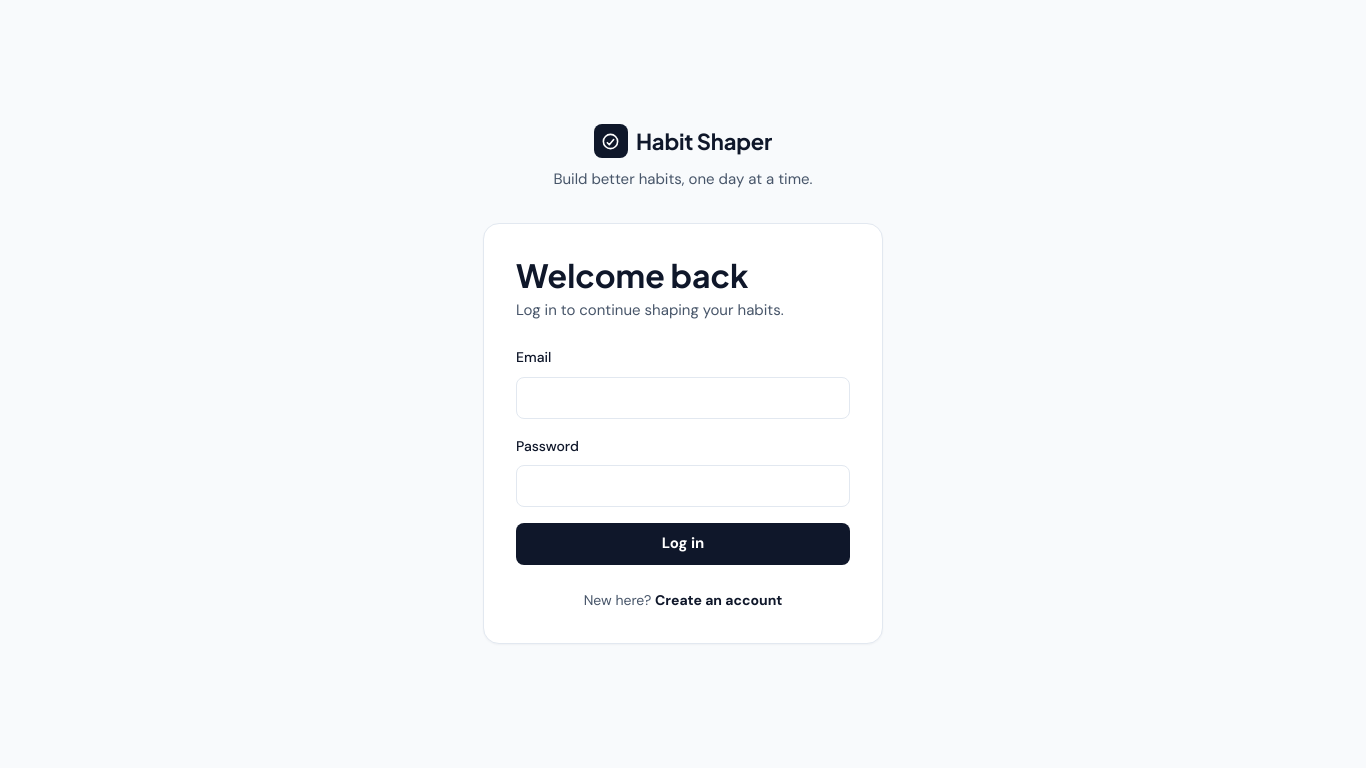
Test: Phase 7 auth flow › 4. valid login succeeds and reaches the protected shell
Type "erin@example.com" into the field labelled "Email" at (683, 398), box [516,377,850,419]
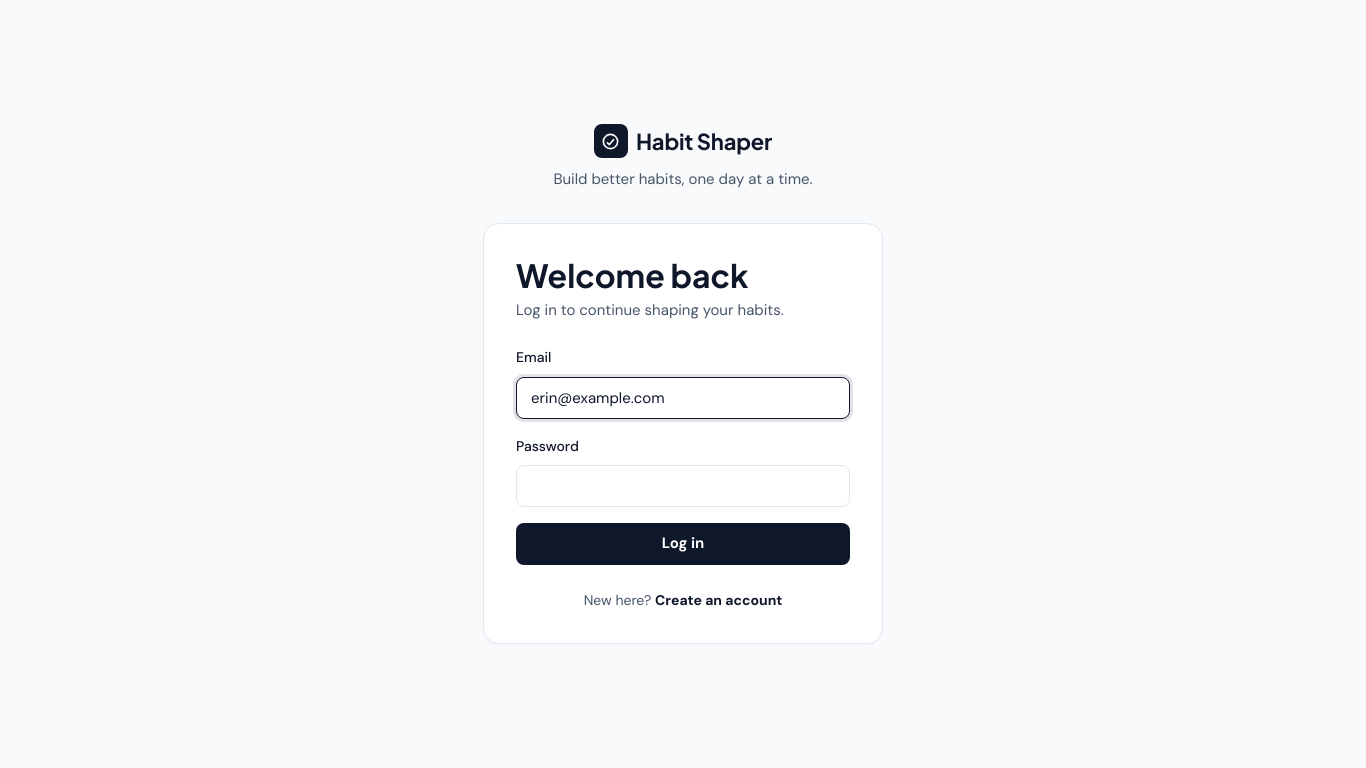
Type "password-456" into the password field labelled "Password" at (683, 486), box [516,465,850,507]
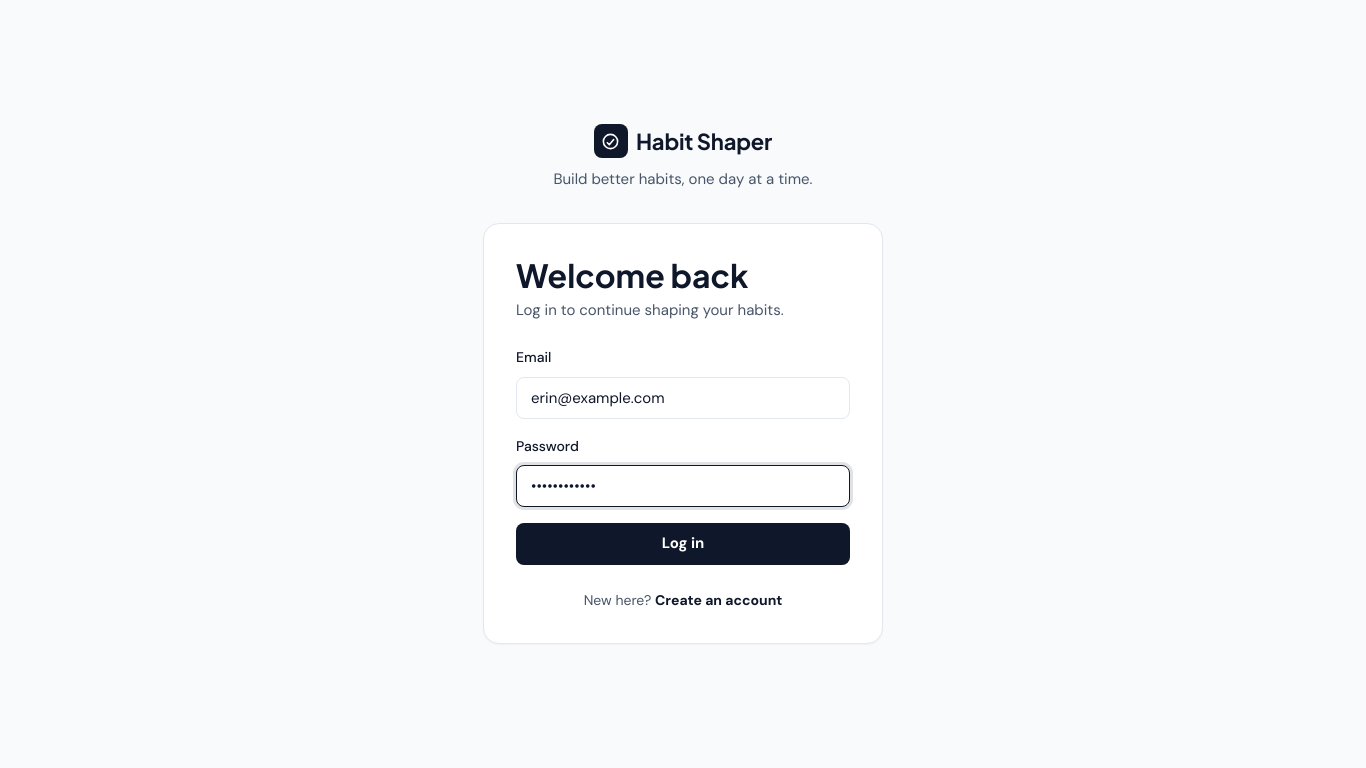
Click the button "Log in" at (683, 544), box [516,523,850,565]
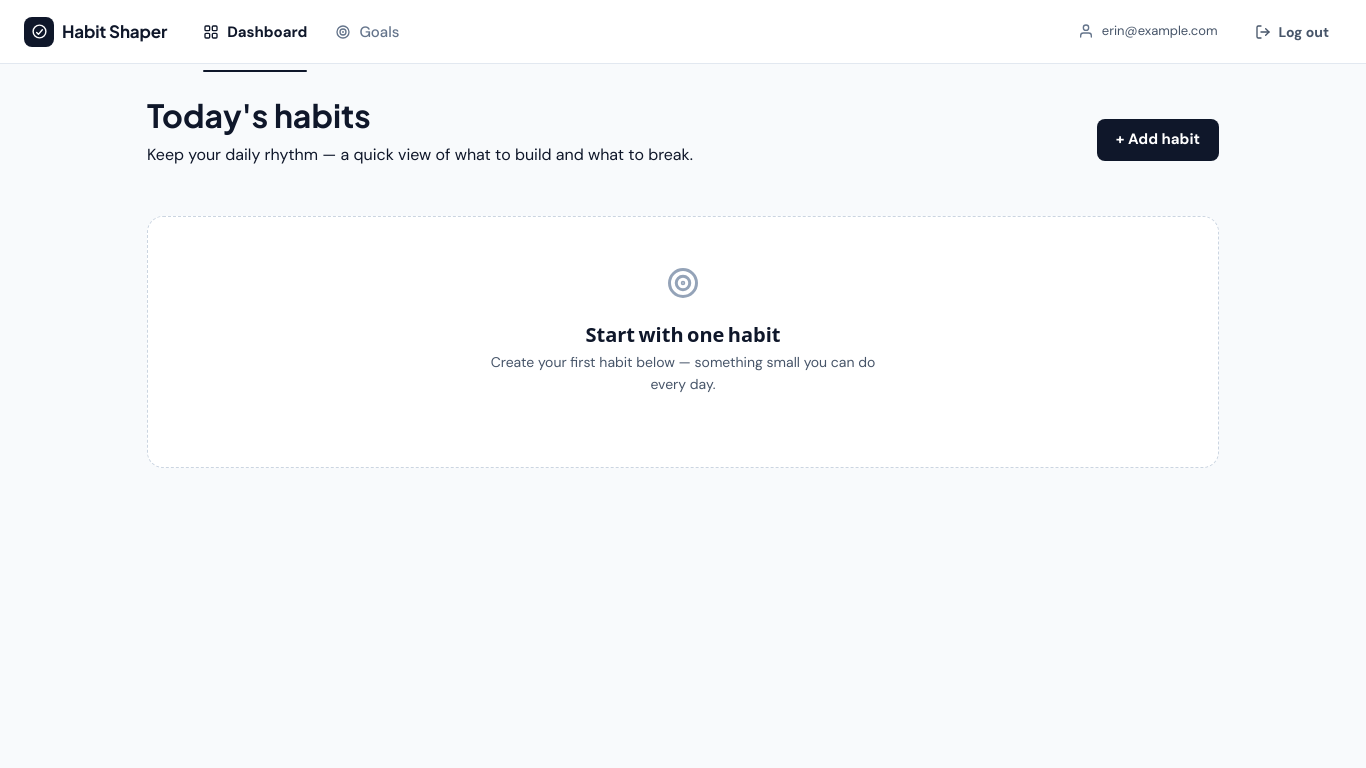
Expected: the heading "Today's habits" is shown, [147,95,371,135]
